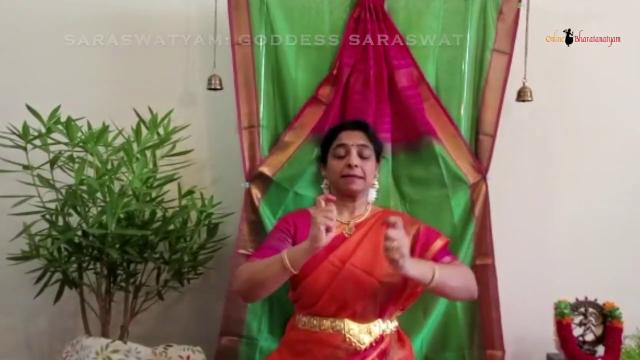kapitth: (304, 178, 358, 254), (376, 208, 414, 284)
